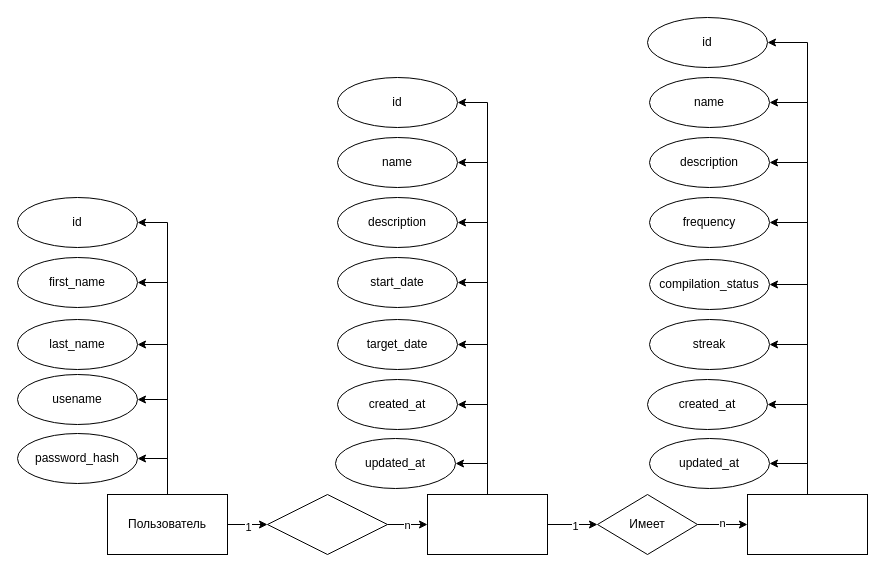
The diagram is 885 pixels wide and 572 high, and some of its shapes have lost their labels. The shapes that lost their labels are listed below. From the top down, each one's box as (x1, y1, x2, y2) in pixels, then its label:
(266, 494, 388, 554): Ставить
(426, 494, 548, 554): Цель
(746, 494, 868, 554): Задачи
